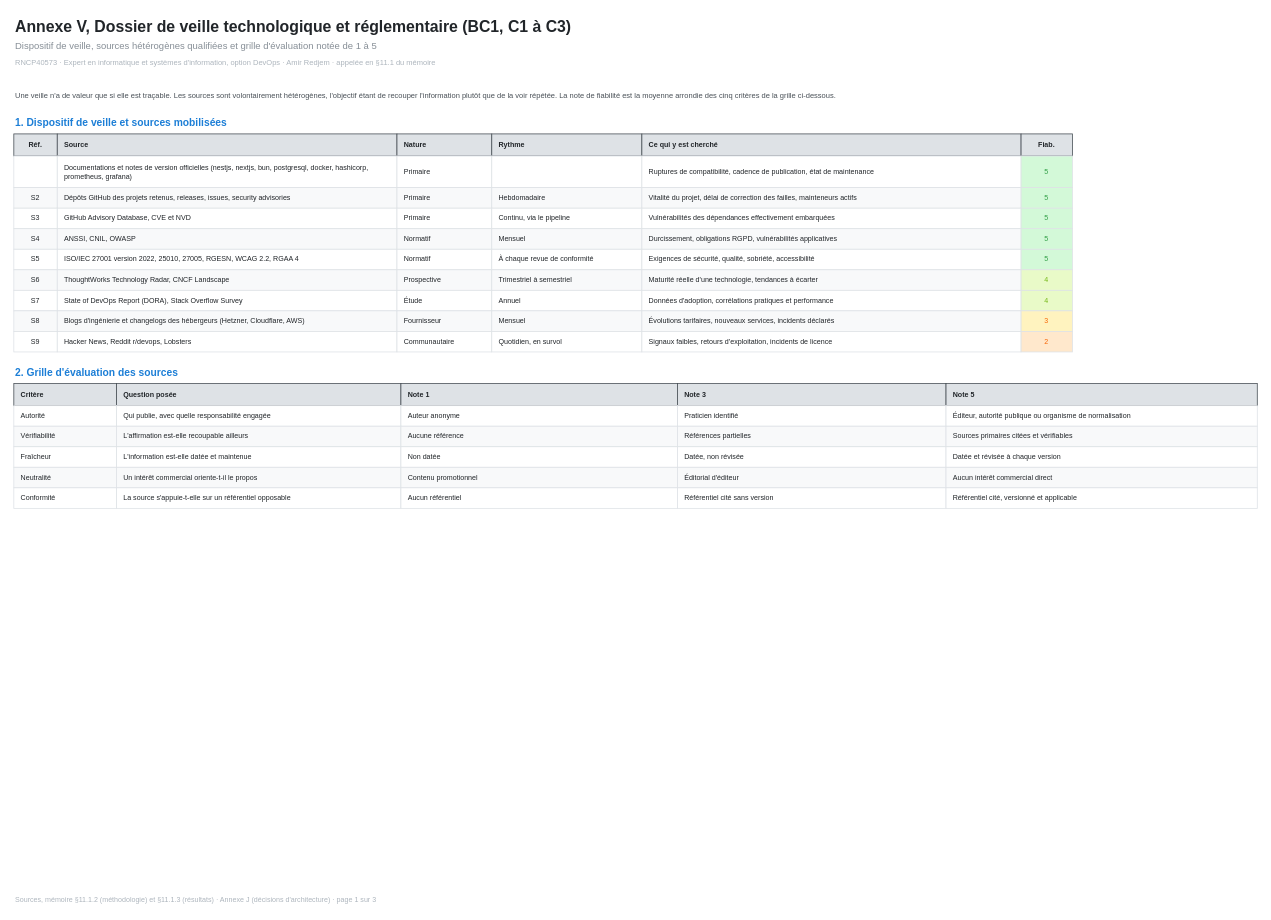
The diagram is 1271 pixels wide and 920 high, and some of its shapes have lost their labels. The centre of each missing label's shape, as x and y in pixels:
"S1" goes at point (35, 171).
"À chaque montée de version" goes at point (566, 171).
